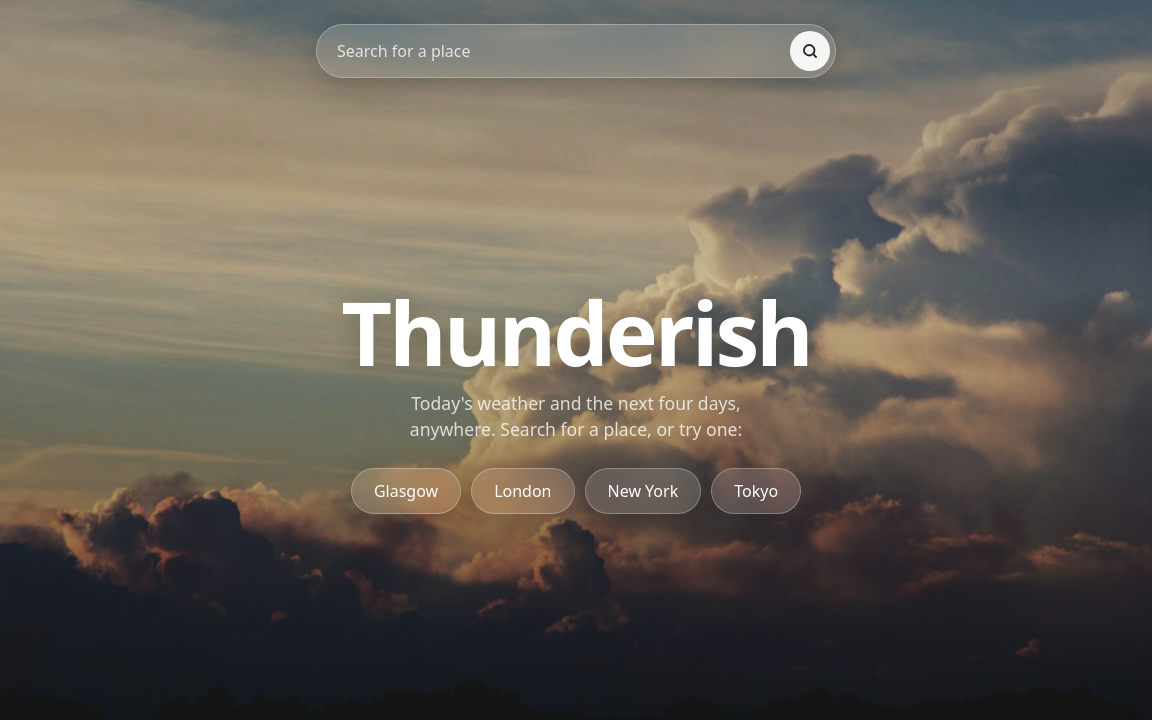
Test case: Thunderish › shows the weather for a city picked on the welcome
The image size is (1152, 720).
Click the button "Tokyo": (756, 491) [711, 468, 801, 514]
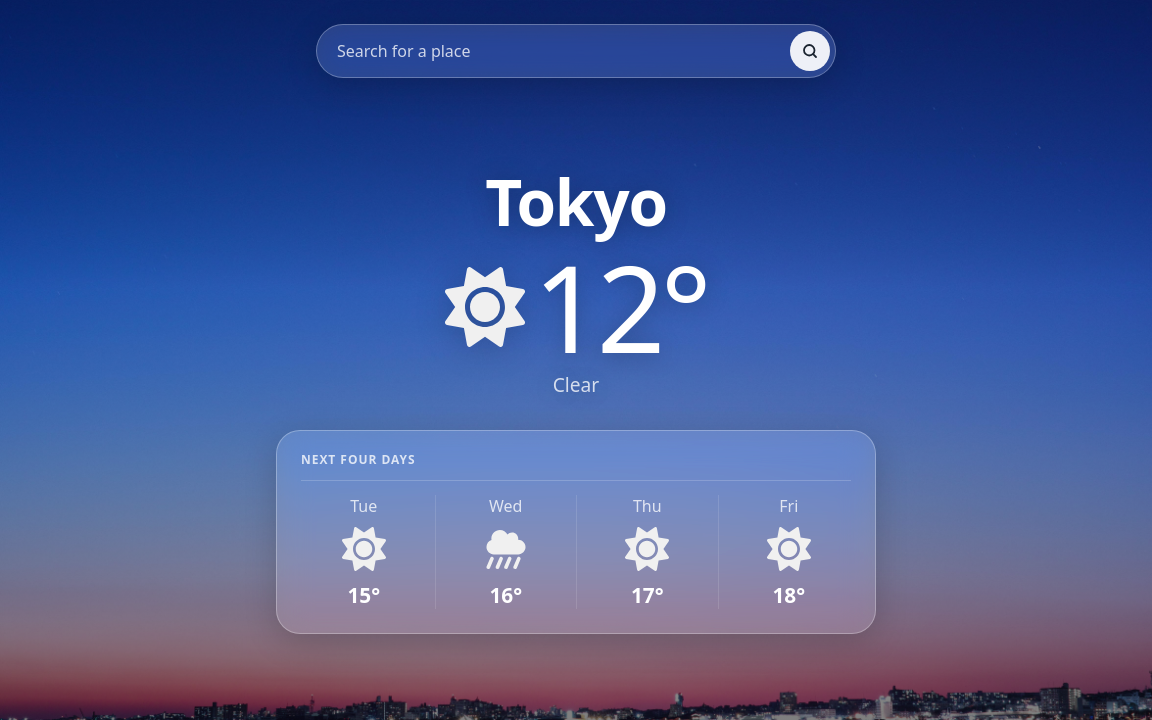
Expected: the heading "Tokyo" is shown, [485, 158, 667, 245]
Result: the text "12°" is shown at [533, 247, 707, 367]
